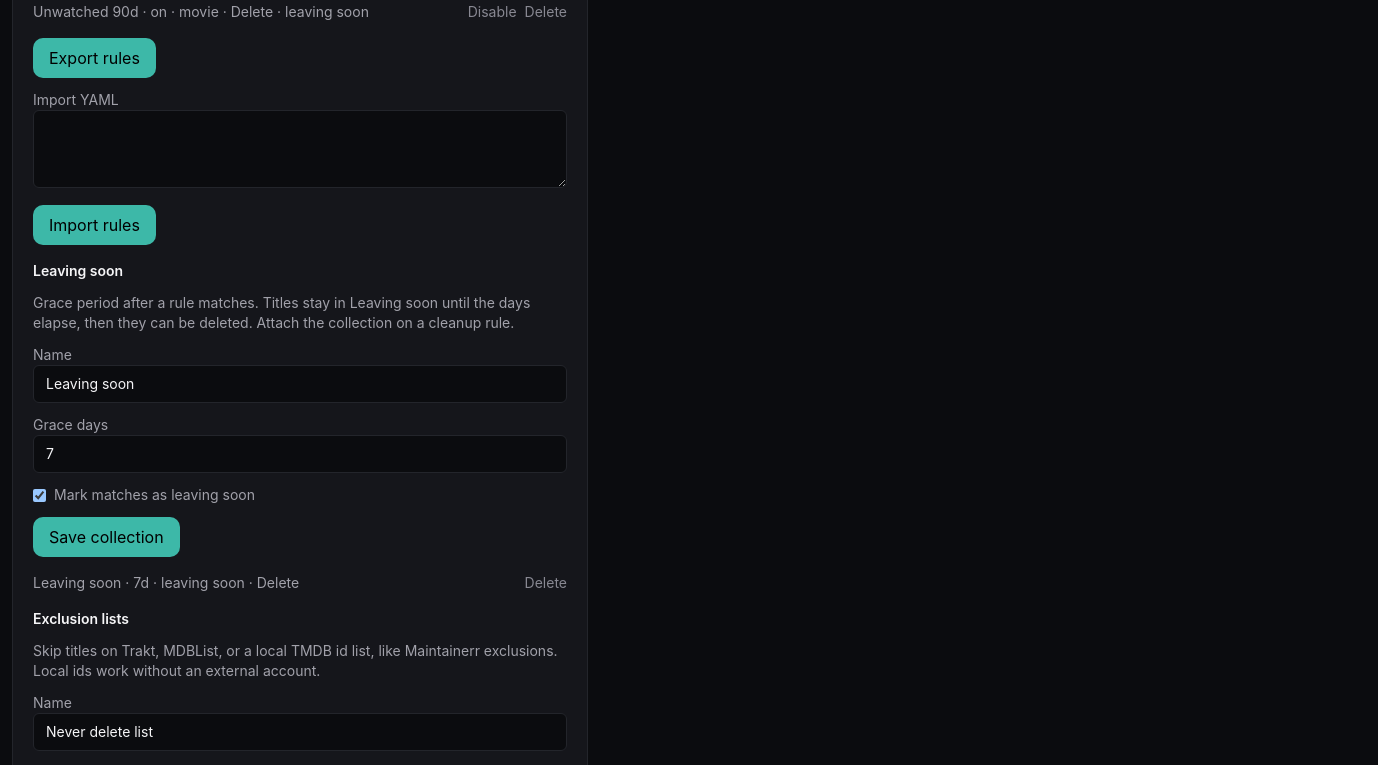
Test: Settings page › saves a leaving-soon maintainer collection
(page scrolled)
Check: the list with test id "maintainer-collections" shows "Leaving soon", box 33,574 -> 121,591
Replace the text in the field named "Leaving-soon collection name" with "Leaving soon movies" at coordinates (300, 384), box 33,365 -> 567,403
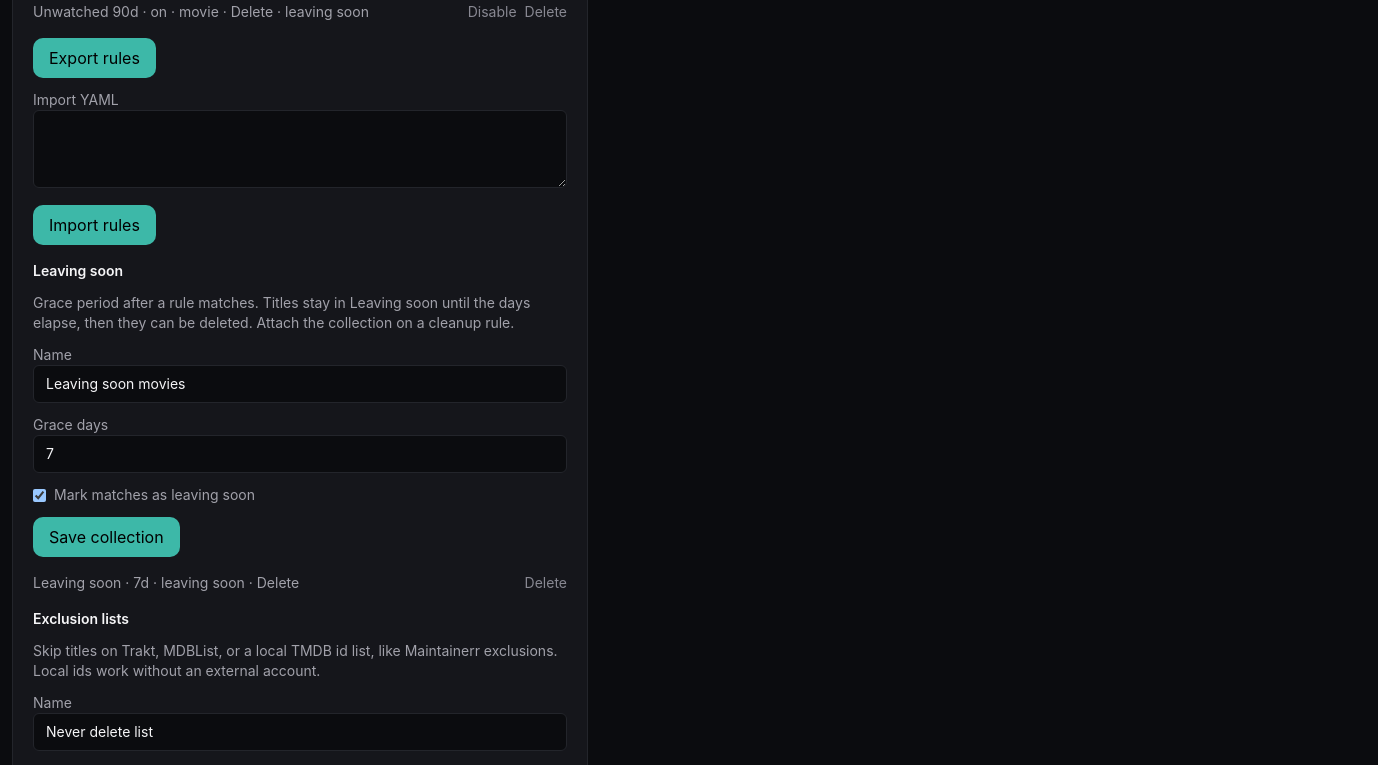
Replace the text in the number field named "Leaving-soon grace days" with "14" at coordinates (300, 454), box 33,435 -> 567,473
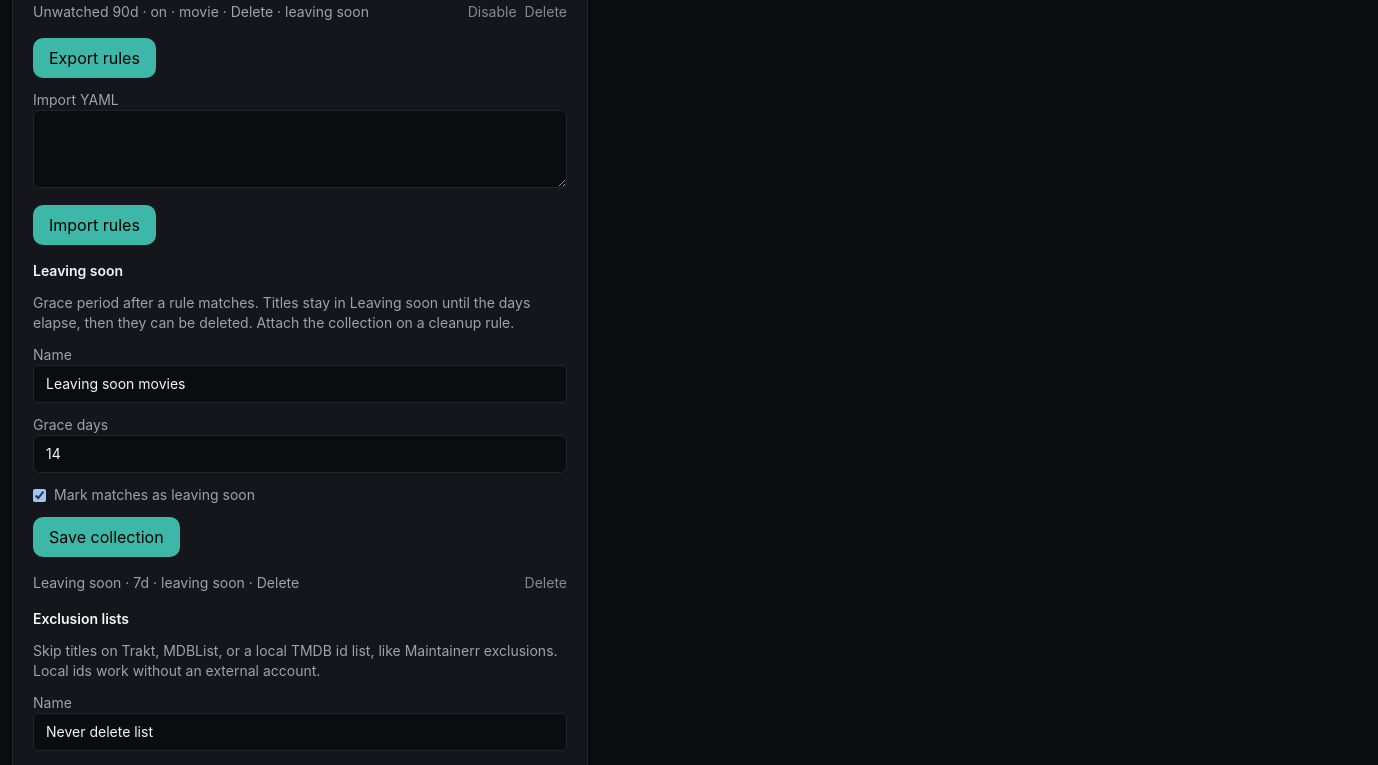
Click the button "Save collection" at coordinates (106, 537), box 33,517 -> 180,557
(page scrolled)
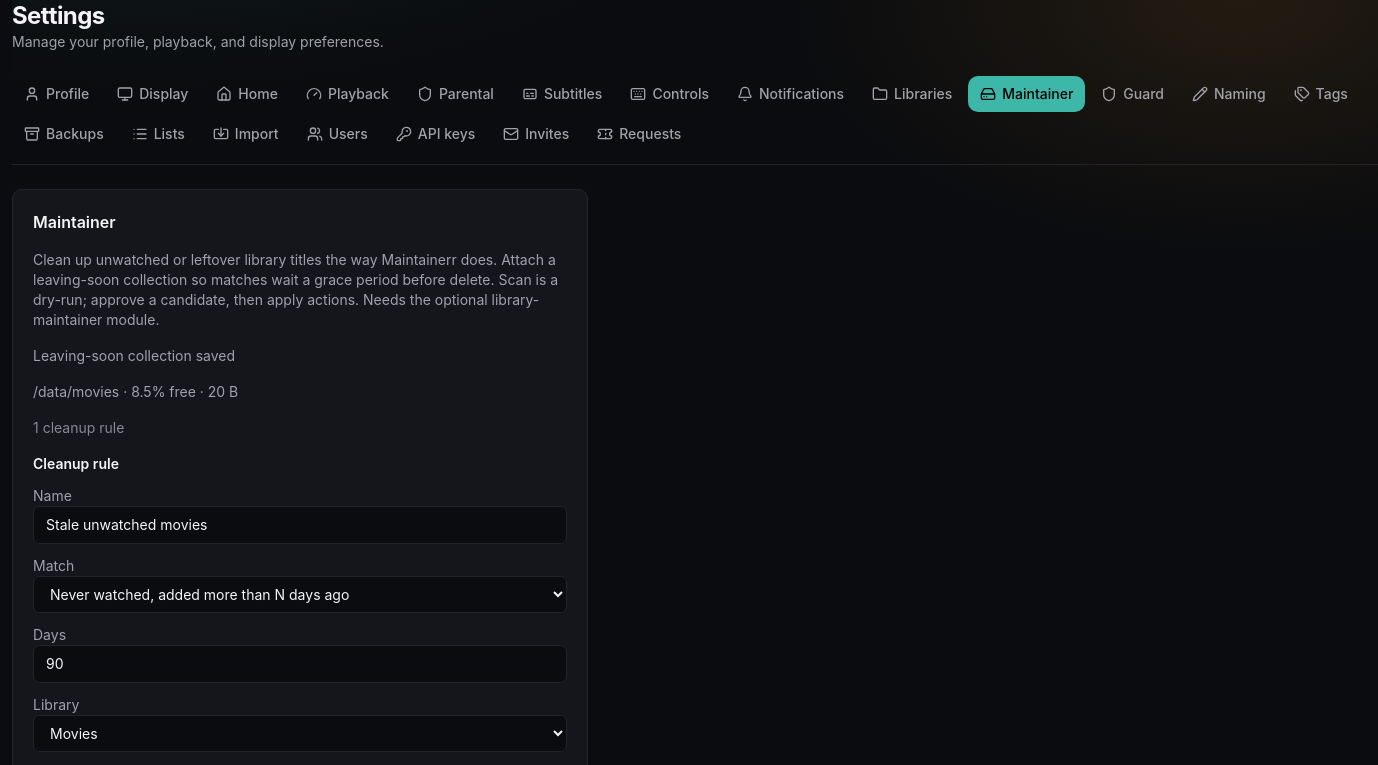
Check: the text with test id "maintainer-flash" reads "Leaving-soon collection saved", box 33,347 -> 235,364
